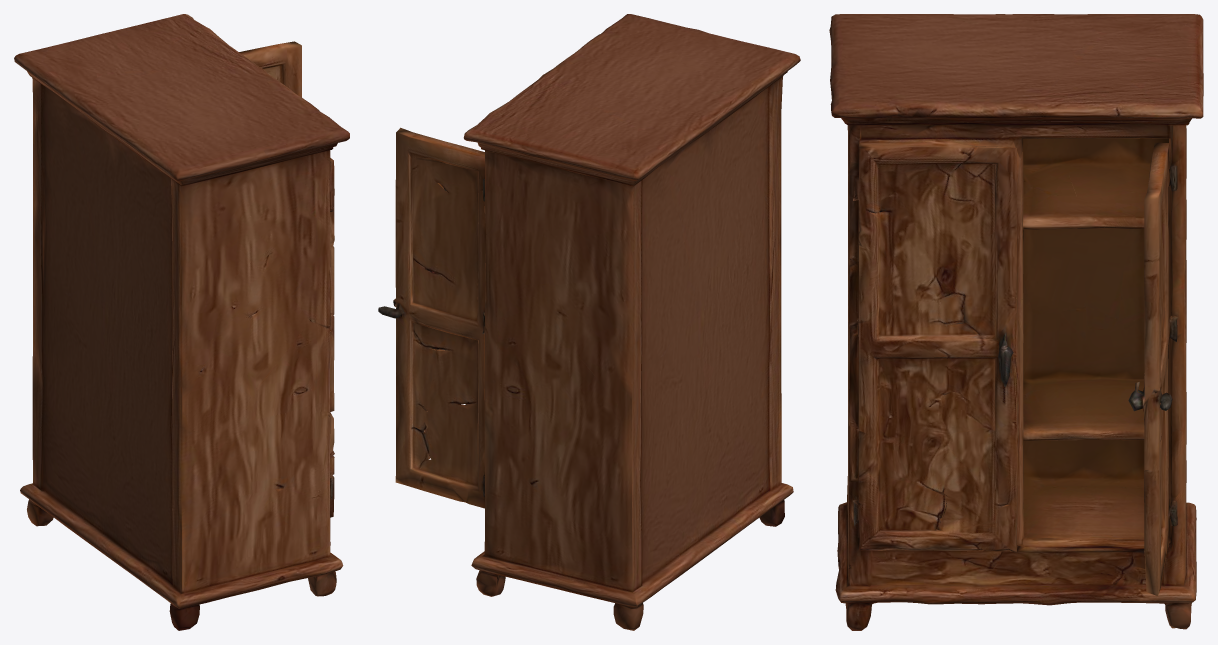
The model's file is wardrobe.glb.
3 renders of one model, left to right at view 1: azimuth 30°, elevation 25°; view 2: azimuth 150°, elevation 25°; view 3: azimuth 270°, elevation 25°, orthographic. The views are drawn at different scales.
Parts seen in each view (by area): view 1: tripo_node_1939ad8f-1f1f-4536-88de-195531eb5579; view 2: tripo_node_1939ad8f-1f1f-4536-88de-195531eb5579; view 3: tripo_node_1939ad8f-1f1f-4536-88de-195531eb5579.
Part boxes in pixels (x1,y1,x2,y2): tripo_node_1939ad8f-1f1f-4536-88de-195531eb5579: (14, 14, 349, 630); tripo_node_1939ad8f-1f1f-4536-88de-195531eb5579: (378, 14, 800, 630); tripo_node_1939ad8f-1f1f-4536-88de-195531eb5579: (829, 14, 1203, 630).
Bounding box in the file's own units: 0.7411 × 1.2 × 0.7679.
Materials: 1 (1 with a texture image).
